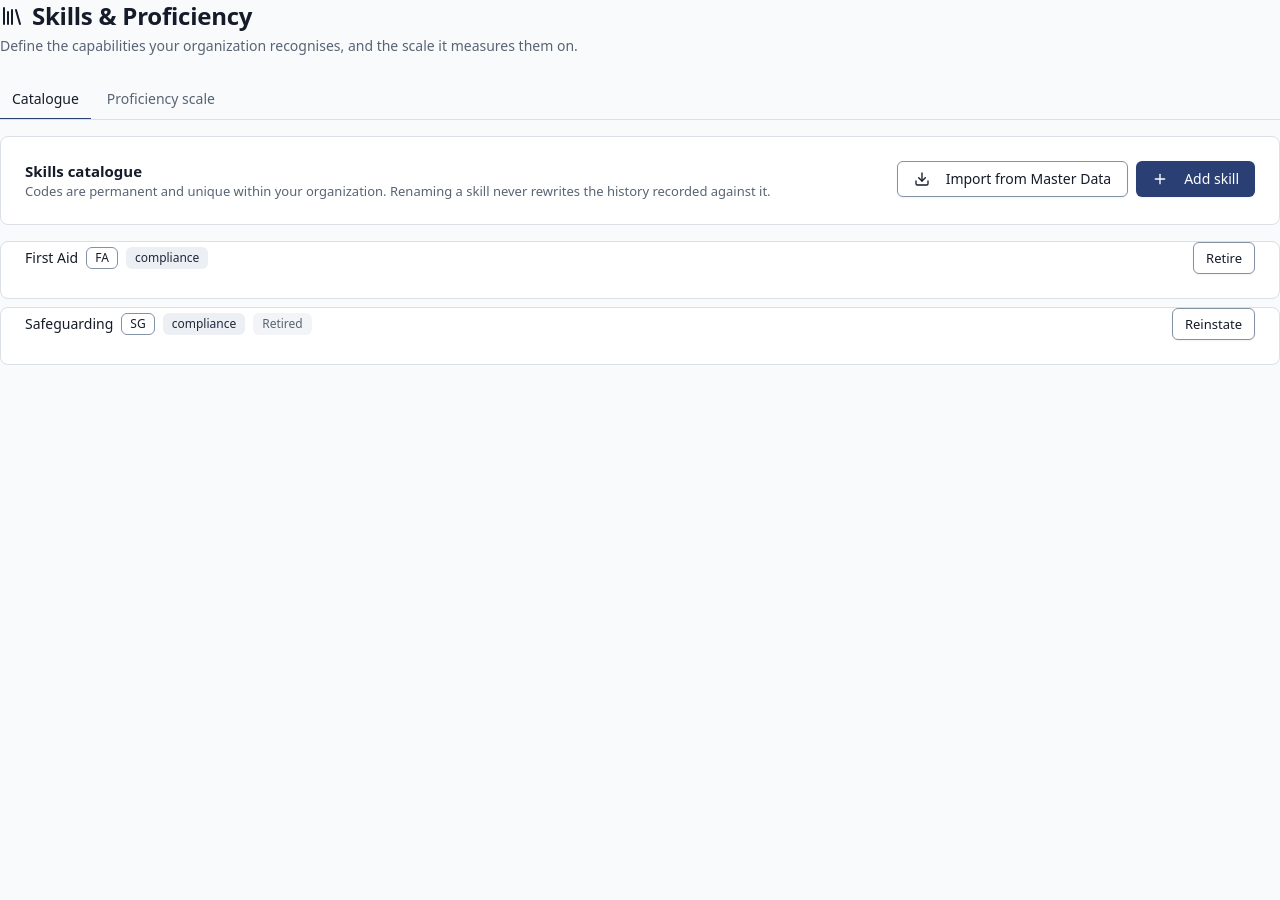
Scenario: Skills catalogue — retire / reinstate confirmation › asks before retiring a skill, and Cancel retires nothing
Click the button with test id "button-toggle-skill-7" at {"x": 1224, "y": 258}, box [1193,242,1255,274]
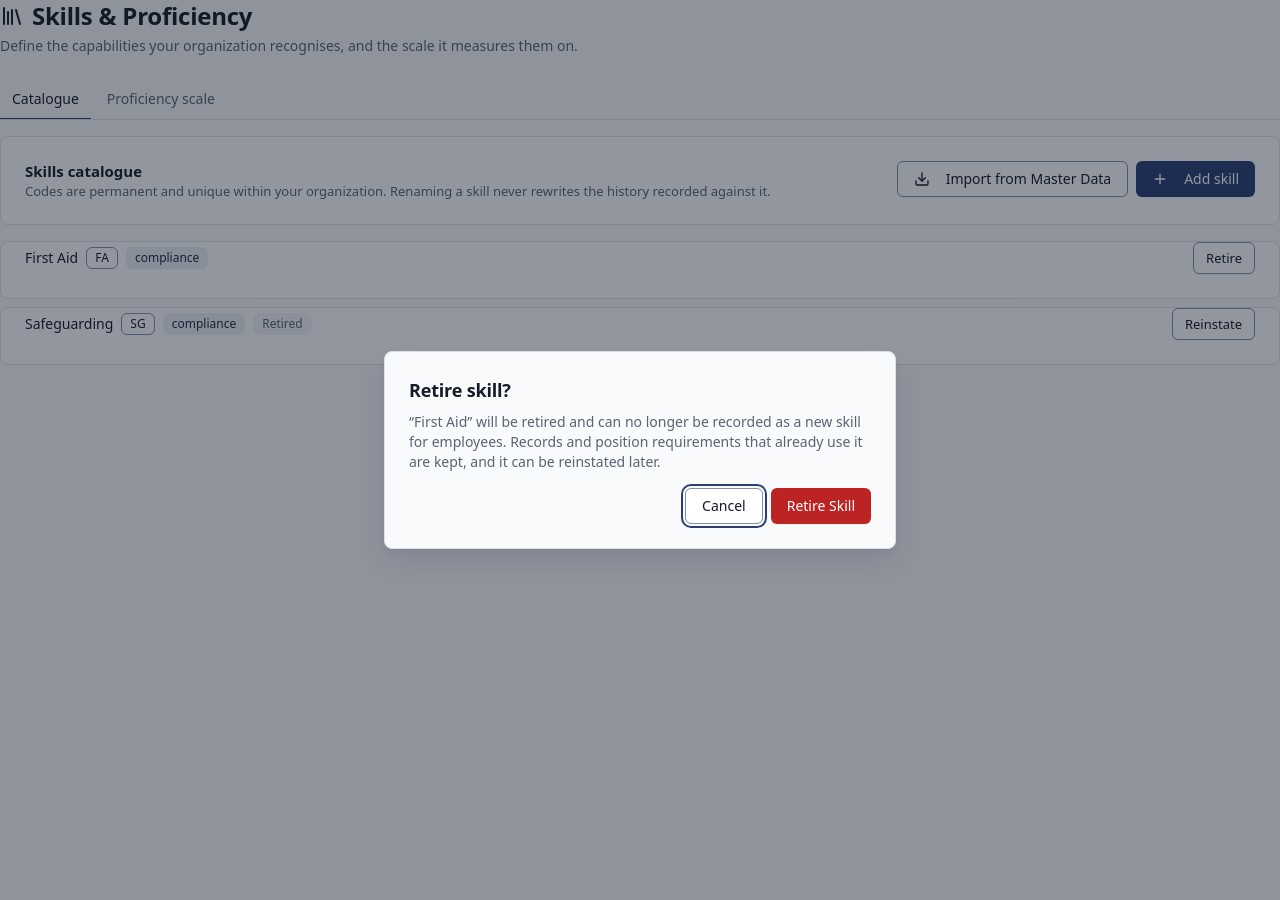
Expected: the dialog with test id "dialog-toggle-skill" shows "Retire skill?", [409,378,511,402]
Expected: the dialog with test id "dialog-toggle-skill" shows "“First Aid” will be retired and can no longer be recorded as a new skill", [409,412,863,471]
Click the button "Cancel" at {"x": 724, "y": 506}, box [685,488,763,524]
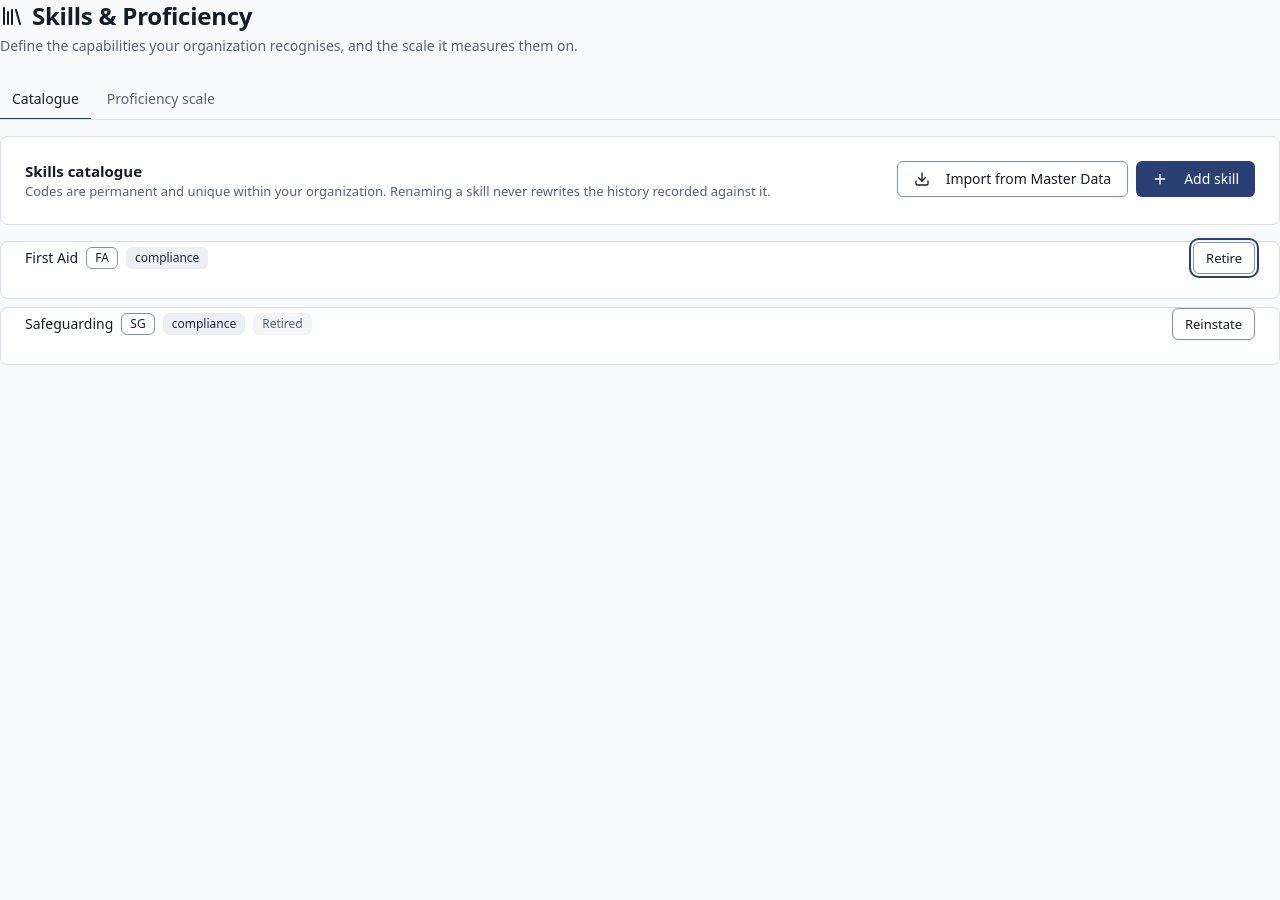
Expected: the dialog with test id "dialog-toggle-skill" is gone
